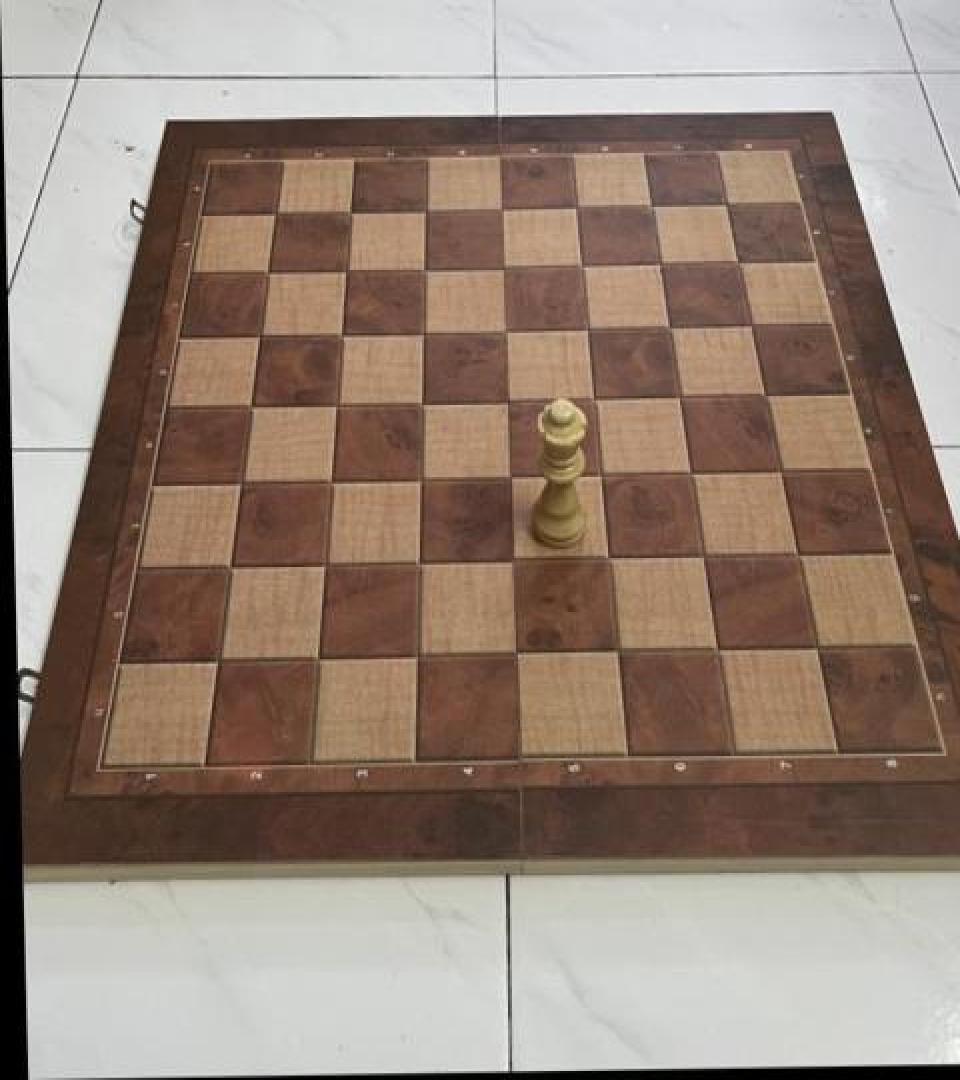xcorner: (484, 190, 520, 231), (409, 191, 445, 232), (334, 192, 370, 233), (721, 244, 757, 285), (642, 245, 678, 286), (734, 307, 770, 348), (652, 309, 688, 350), (244, 316, 280, 357), (577, 380, 613, 421), (491, 381, 527, 422), (763, 453, 799, 494), (315, 460, 351, 501), (225, 461, 261, 502), (497, 541, 533, 582), (403, 542, 439, 583), (699, 631, 735, 672), (600, 632, 636, 673), (709, 187, 745, 227), (634, 188, 670, 228), (559, 189, 595, 229), (259, 195, 295, 235), (564, 248, 600, 288), (486, 249, 522, 289), (408, 250, 444, 290), (330, 251, 366, 291), (252, 252, 288, 292), (570, 311, 606, 351), (488, 312, 524, 352), (407, 313, 443, 353), (325, 315, 361, 355), (748, 377, 784, 417), (662, 378, 698, 418), (406, 383, 442, 423), (320, 384, 356, 424), (235, 386, 271, 426), (673, 455, 709, 495), (584, 456, 620, 496), (494, 457, 530, 497), (404, 459, 440, 499), (780, 537, 816, 577), (686, 538, 722, 578), (591, 540, 627, 580), (309, 545, 345, 585), (215, 546, 251, 586), (799, 630, 835, 670), (501, 635, 537, 675), (401, 636, 437, 676), (302, 637, 338, 677), (203, 639, 239, 679)
